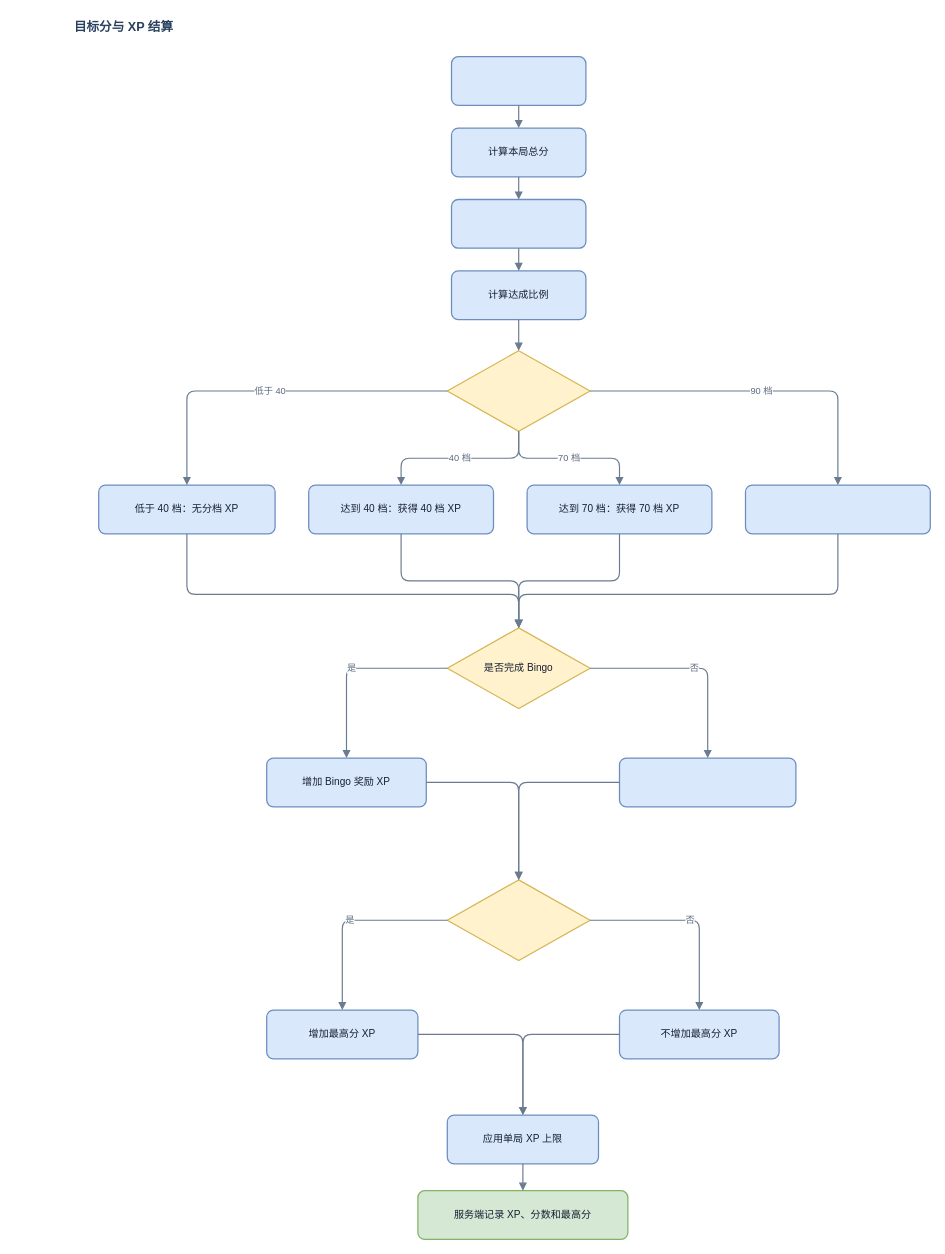
Image size: 945x1254. Some labels were removed from this diagram. Here are the shapes that lost their labels. From the top down, the box of each, then its label:
(450, 56, 586, 106): 游戏结束
(450, 198, 586, 248): 读取本局目标分
(446, 350, 590, 432): 判断达成比例档位
(744, 484, 931, 534): 达到 90 档：获得 90 档 XP
(618, 757, 796, 807): 不增加 Bingo 奖励 XP
(446, 879, 590, 961): 是否刷新最高分
